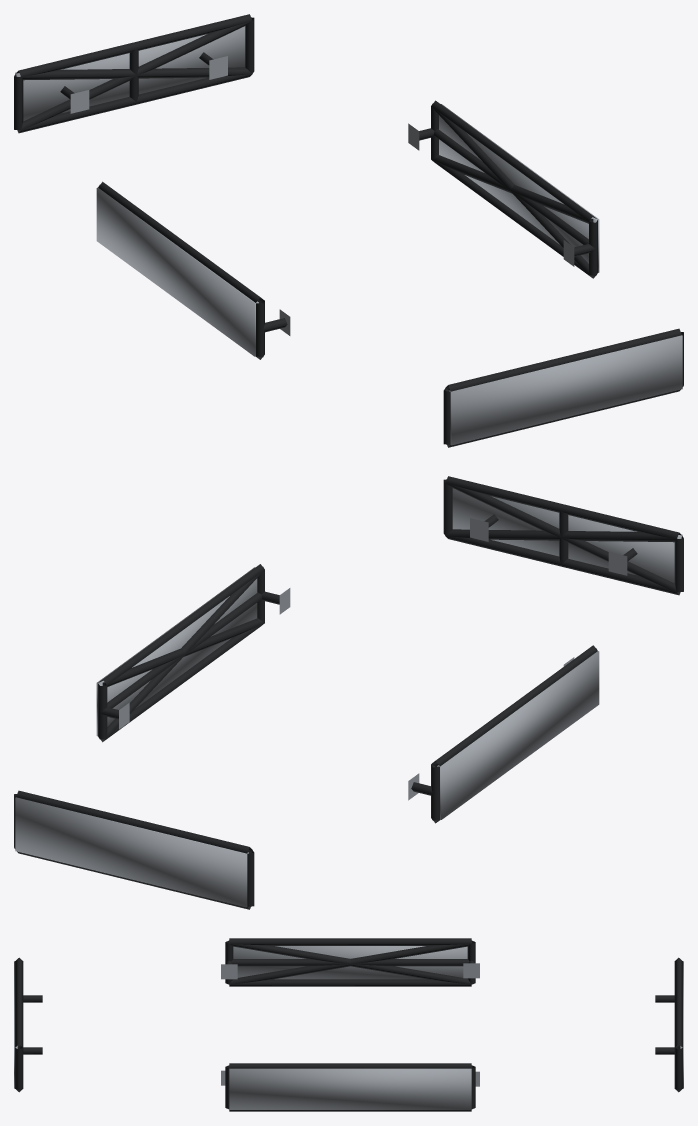
Rendered from morel_colmeia_protecao.glb.
3 views of the same model, one above another, from view 1: azimuth 30°, elevation 25°; view 2: azimuth 150°, elevation 25°; view 3: azimuth 270°, elevation 25° (orthographic). The views are drawn at different scales.
Parts seen in each view (by area): view 1: Protection_front_Level3_Details, Protection_left_Level3_Details, Protection_rear_Level1_Details, Protection_rear_Level3_Details, Protection_right_Level1_Details, Protection_rear_Level2_Details, Protection_right_Level2_Details, Protection_right_Level3_Details, Protection_front_Level1_Details, Protection_left_Level1_Details; view 2: Protection_rear_Level3_Details, Protection_left_Level3_Details, Protection_front_Level1_Details, Protection_front_Level3_Details, Protection_right_Level1_Details, Protection_front_Level2_Details, Protection_right_Level2_Details, Protection_right_Level3_Details, Protection_rear_Level1_Details, Protection_left_Level1_Details; view 3: Protection_right_Level3_Details, Protection_left_Level2_Details, Protection_left_Level1_Details, Protection_left_Level3_Details, Protection_right_Level1_Details, Protection_rear_Level1_Details, Protection_front_Level1_Details.
Part boxes in pixels (<box>): Protection_front_Level3_Details: <box>449,335,682,445</box>; Protection_left_Level3_Details: <box>96,187,258,356</box>; Protection_rear_Level1_Details: <box>14,14,254,133</box>; Protection_rear_Level3_Details: <box>15,26,245,121</box>; Protection_right_Level1_Details: <box>408,100,597,278</box>; Protection_rear_Level2_Details: <box>16,21,252,132</box>; Protection_right_Level2_Details: <box>431,106,596,277</box>; Protection_right_Level3_Details: <box>439,104,599,272</box>; Protection_front_Level1_Details: <box>443,328,683,447</box>; Protection_left_Level1_Details: <box>98,181,290,359</box>; Protection_rear_Level3_Details: <box>15,797,248,907</box>; Protection_left_Level3_Details: <box>437,651,599,819</box>; Protection_front_Level1_Details: <box>443,476,683,595</box>; Protection_front_Level3_Details: <box>452,488,682,583</box>; Protection_right_Level1_Details: <box>98,564,290,742</box>; Protection_front_Level2_Details: <box>445,483,681,594</box>; Protection_right_Level2_Details: <box>98,571,264,741</box>; Protection_right_Level3_Details: <box>96,567,257,736</box>; Protection_rear_Level1_Details: <box>14,790,254,909</box>; Protection_left_Level1_Details: <box>408,645,597,823</box>; Protection_right_Level3_Details: <box>229,1068,471,1109</box>; Protection_left_Level2_Details: <box>229,941,471,984</box>; Protection_left_Level1_Details: <box>221,938,479,986</box>; Protection_left_Level3_Details: <box>233,946,467,979</box>; Protection_right_Level1_Details: <box>221,1063,479,1111</box>; Protection_rear_Level1_Details: <box>655,957,682,1092</box>; Protection_front_Level1_Details: <box>15,957,42,1092</box>.
Bounding box in the file's own units: 2.03 × 0.354 × 4.45.
1 material, 1 textured.
